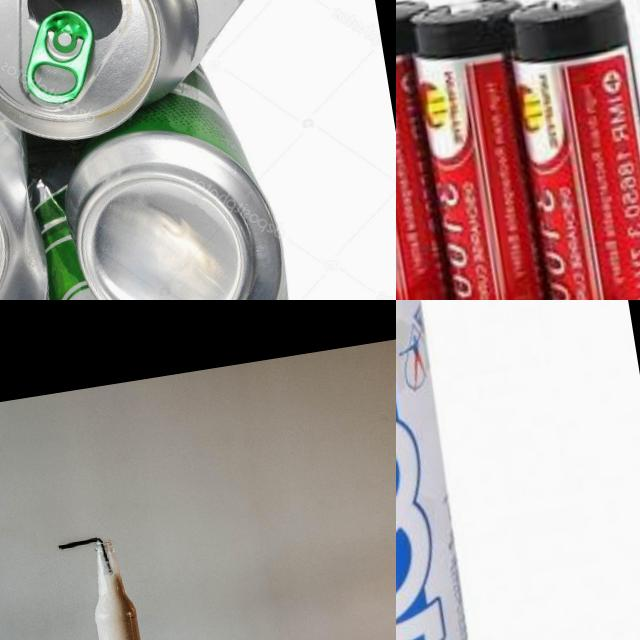aba de lata: (16, 6, 102, 108)
bateria: (407, 0, 582, 300), (503, 0, 640, 300), (396, 0, 487, 300)
garrafa de vidro: (82, 535, 150, 640)
lata: (0, 45, 298, 300), (0, 0, 294, 163), (396, 300, 501, 640)
